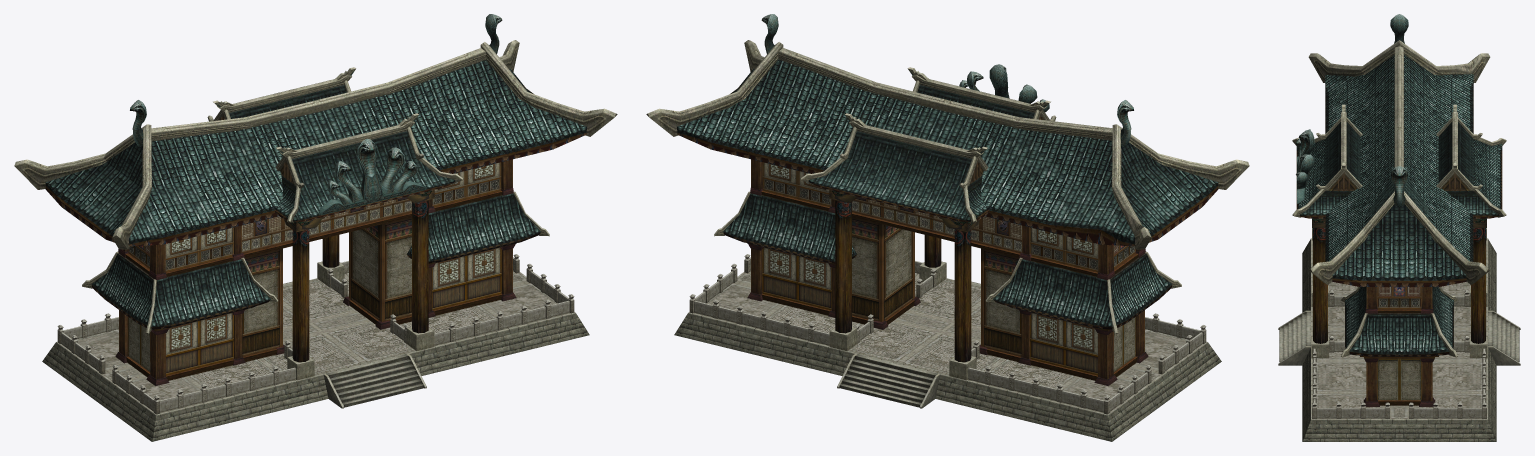
File: gls_gate_main01.fbx
The picture shows the model from 3 angles, left to right: view 1: azimuth 30°, elevation 25°; view 2: azimuth 150°, elevation 25°; view 3: azimuth 270°, elevation 25°; orthographic projection. The views are drawn at different scales.
Visible parts, largest first — view 1: gls_gate_main01; view 2: gls_gate_main01; view 3: gls_gate_main01.
Boxes of the visible parts, bbox=[...] form: gls_gate_main01: bbox=[14, 14, 617, 441]; gls_gate_main01: bbox=[646, 14, 1249, 441]; gls_gate_main01: bbox=[1278, 14, 1520, 441].
Bounding box in the file's own units: 27.96 × 15.39 × 13.12.
